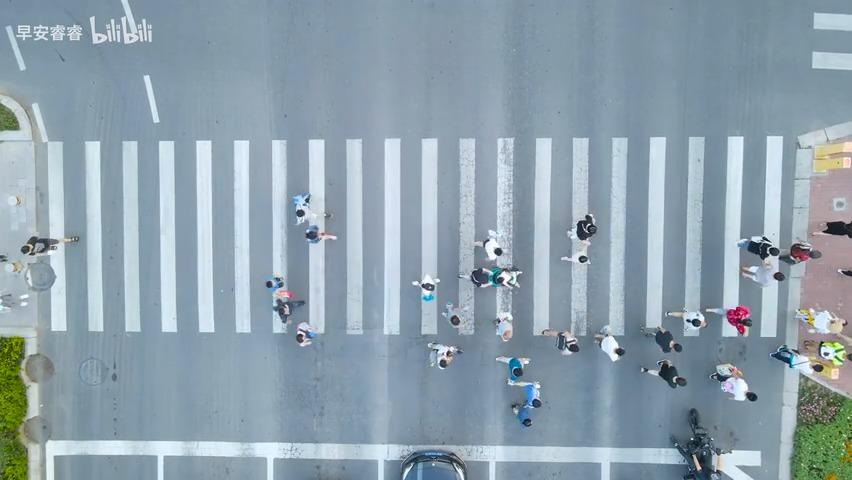Civilian: (668, 408, 729, 480), (794, 307, 851, 345), (560, 213, 597, 264), (708, 363, 757, 401), (506, 378, 541, 426), (458, 265, 522, 290), (705, 305, 752, 337), (739, 256, 785, 287), (736, 235, 780, 267), (640, 358, 686, 388), (639, 324, 682, 353), (778, 236, 821, 265), (20, 235, 79, 256), (292, 193, 333, 223), (593, 325, 625, 362), (426, 340, 463, 369), (23, 260, 56, 292), (541, 328, 579, 355), (769, 343, 810, 368), (273, 297, 305, 329), (473, 228, 503, 261), (495, 355, 531, 381), (664, 308, 707, 329), (411, 273, 440, 301), (811, 219, 851, 239), (708, 362, 743, 382), (265, 275, 293, 300), (492, 312, 513, 342), (295, 207, 332, 224), (304, 224, 337, 243), (0, 292, 29, 312), (510, 402, 532, 426), (295, 321, 316, 346), (441, 301, 461, 327), (0, 254, 23, 273), (265, 275, 284, 291), (836, 267, 851, 277)
